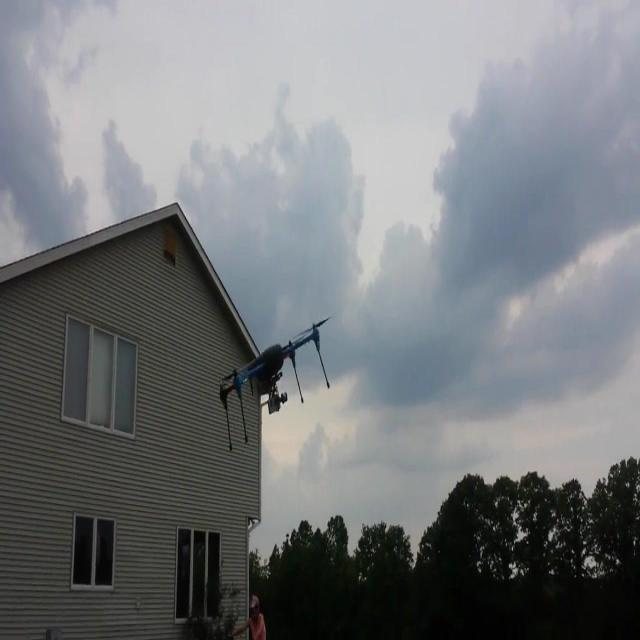drone: (218, 312, 332, 452)
